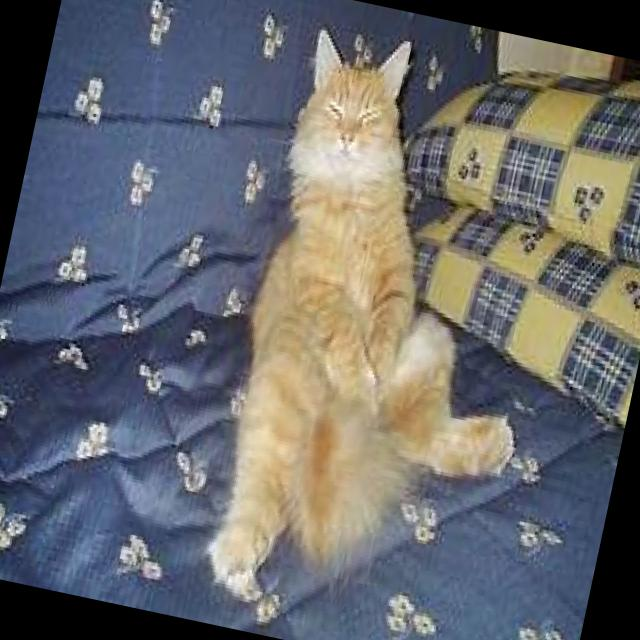animal: (196, 23, 589, 640)
